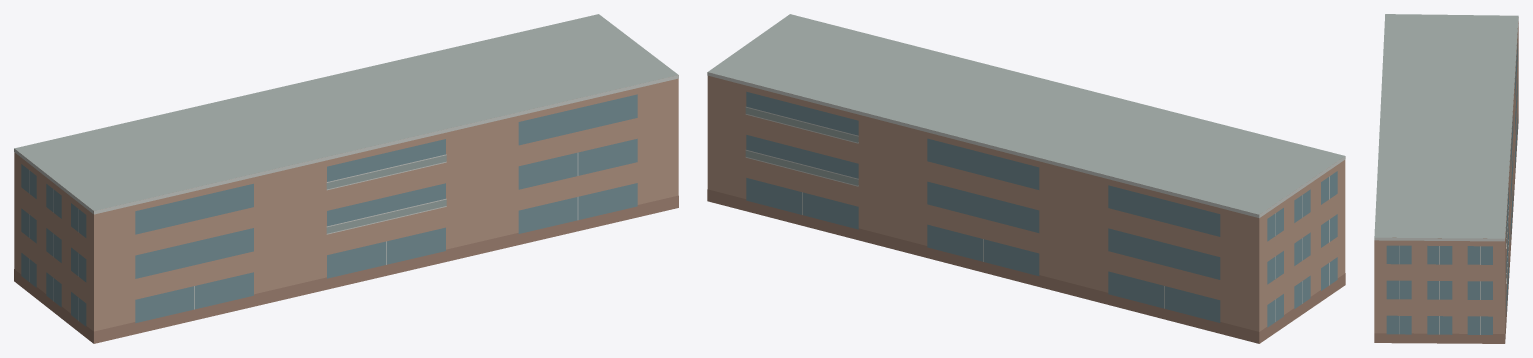
Rendered from survey-upis-32904254.glb.
3 renders of one model, left to right at view 1: azimuth 30°, elevation 25°; view 2: azimuth 150°, elevation 25°; view 3: azimuth 270°, elevation 25°, orthographic. The views are drawn at different scales.
Visible parts, largest first — view 1: survey-upis-32904254.tmp; view 2: survey-upis-32904254.tmp; view 3: survey-upis-32904254.tmp.
Boxes of the visible parts, x1,y1,x2,y2 form: survey-upis-32904254.tmp: (14,14,678,343); survey-upis-32904254.tmp: (707,14,1345,343); survey-upis-32904254.tmp: (1374,14,1518,343).
Size of the model in its own units: 41.85 by 9.15 by 11.36.
